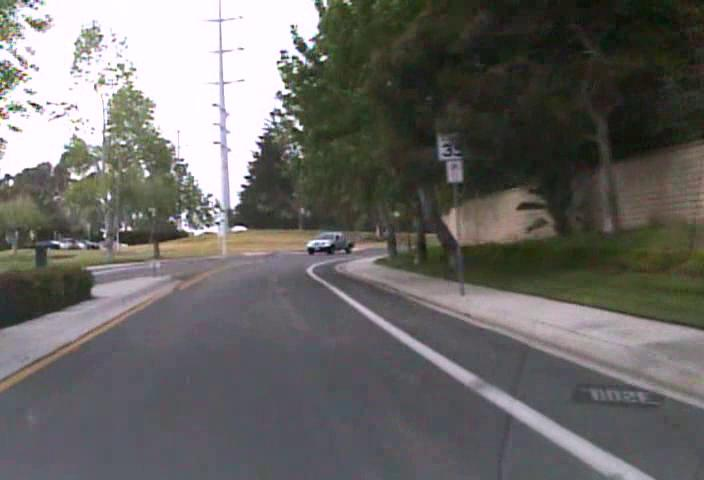speedLimit35: (436, 122, 468, 161)
